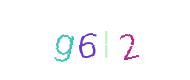2: (65, 0, 145, 80)
6: (51, 0, 131, 80)
G: (25, 0, 105, 80)
L: (55, 0, 135, 80)
